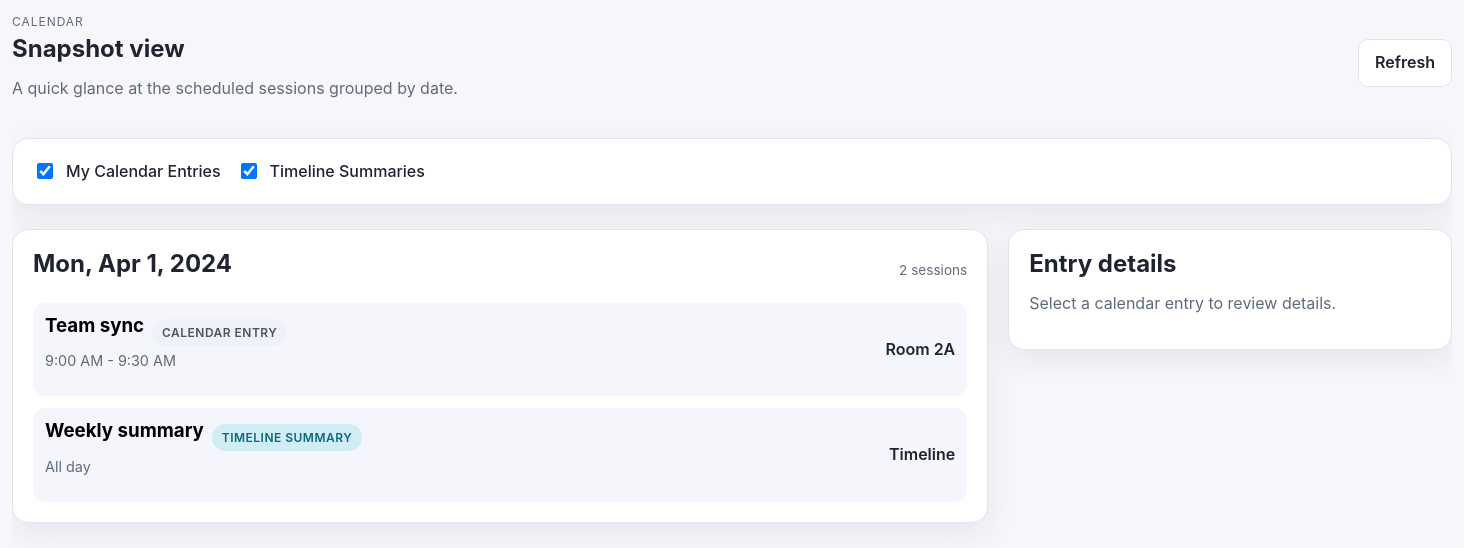
CalendarPageClient › toggles timeline summaries on and off
Expected: the heading "Weekly summary" is shown, [45,420,204,443]
Click the checkbox labelled "Timeline Summaries" at (249, 171), box [241,163,257,179]
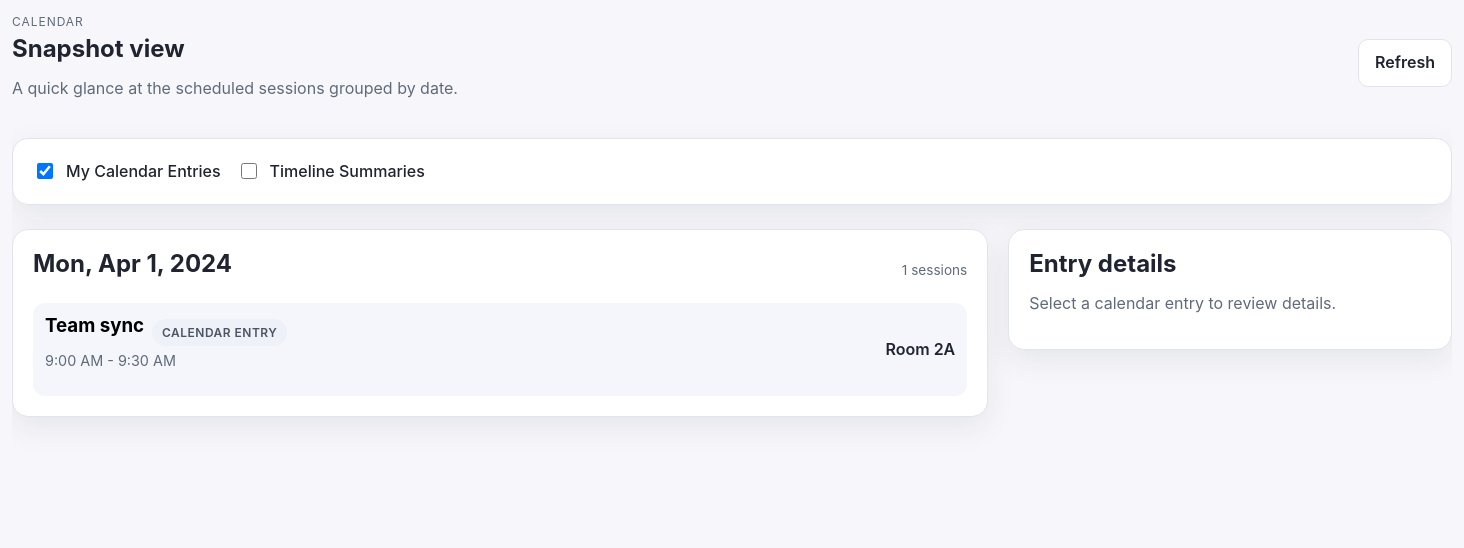
Now the button "Weekly summary" is gone
Click the checkbox labelled "Timeline Summaries" at (249, 171), box [241,163,257,179]
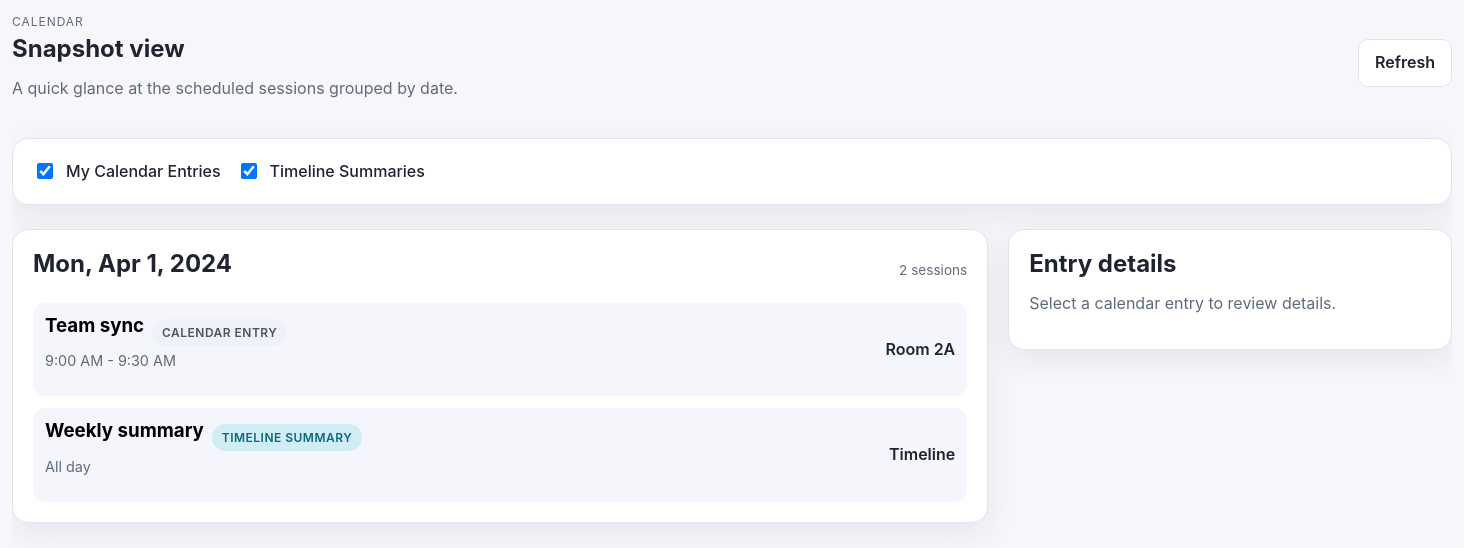
Now the heading "Weekly summary" is shown, box [45,420,204,443]
